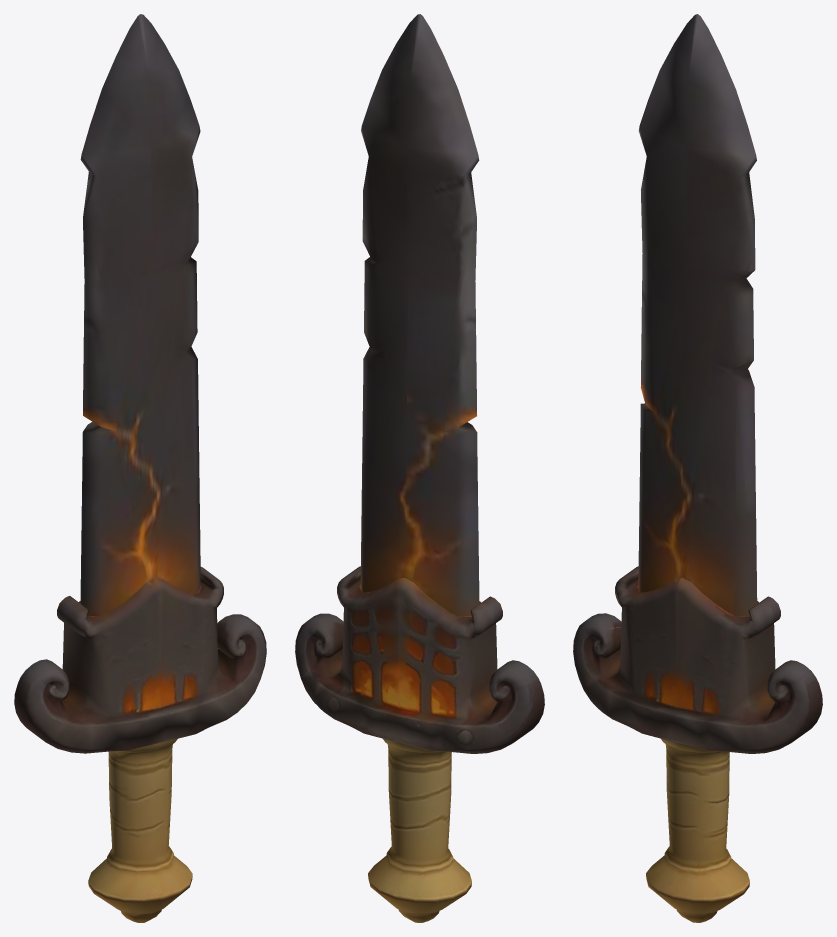
Rendered from hearthbrand.glb.
The picture shows the model from 3 angles, left to right: view 1: azimuth 30°, elevation 25°; view 2: azimuth 150°, elevation 25°; view 3: azimuth 330°, elevation 25°; orthographic projection.
Parts seen in each view (by area): view 1: tripo_node_eefb9eec-0cdc-41c1-8c55-4a48a5f55db6; view 2: tripo_node_eefb9eec-0cdc-41c1-8c55-4a48a5f55db6; view 3: tripo_node_eefb9eec-0cdc-41c1-8c55-4a48a5f55db6.
Boxes of the visible parts, x1,y1,x2,y2 form: tripo_node_eefb9eec-0cdc-41c1-8c55-4a48a5f55db6: (14, 14, 266, 922); tripo_node_eefb9eec-0cdc-41c1-8c55-4a48a5f55db6: (295, 14, 544, 922); tripo_node_eefb9eec-0cdc-41c1-8c55-4a48a5f55db6: (573, 14, 822, 922).
Size of the model in its own units: 0.5582 by 2 by 0.2101.
Materials: 1 (1 with a texture image).
